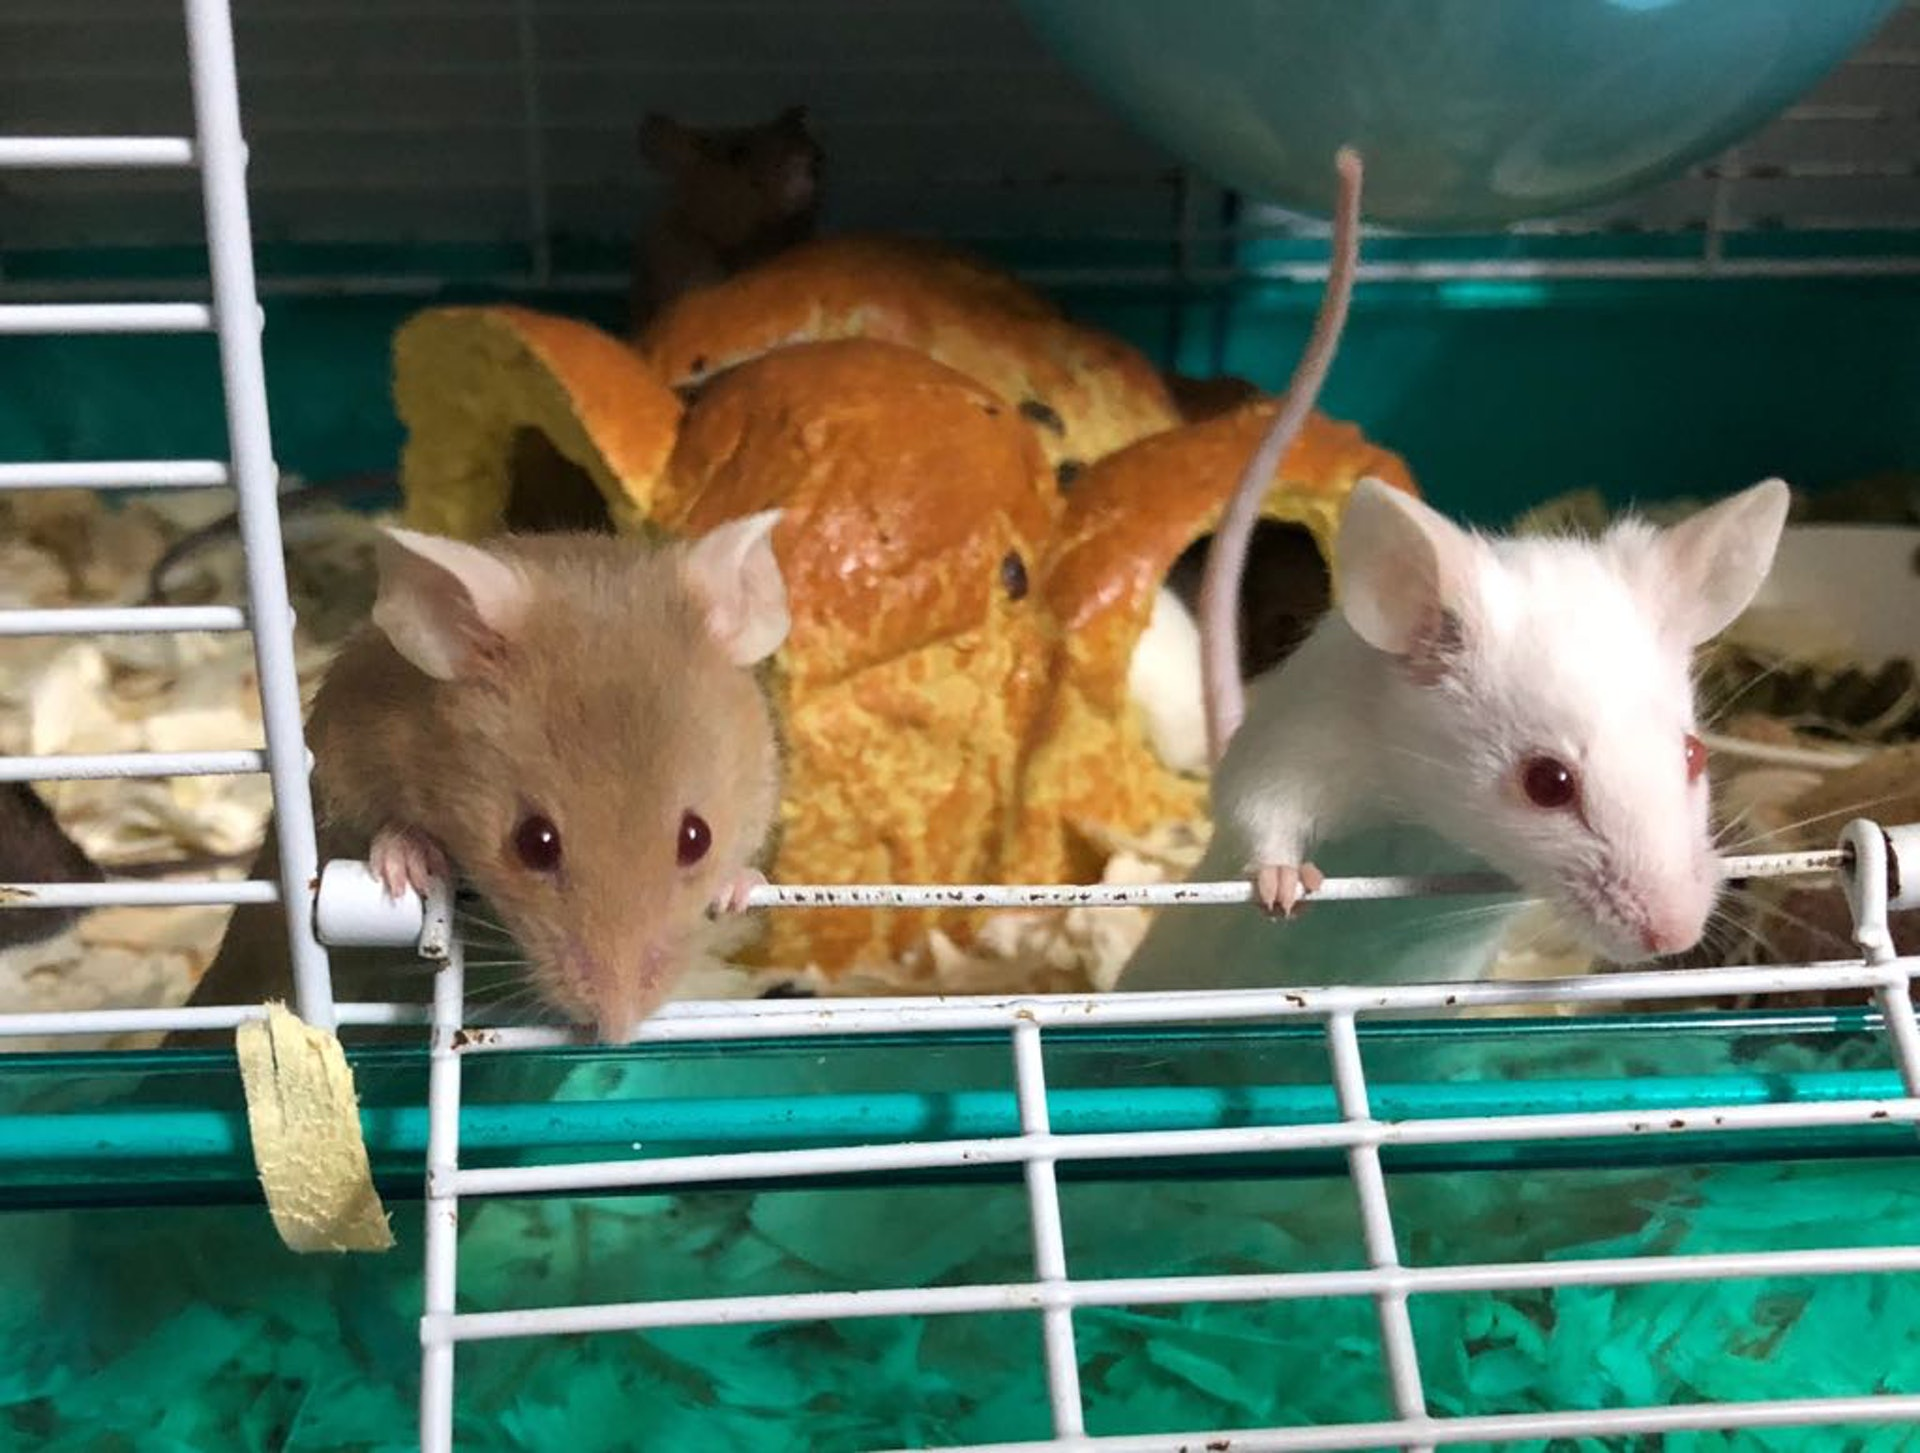mouse: (1174, 362, 1807, 1042), (310, 466, 839, 1065)
